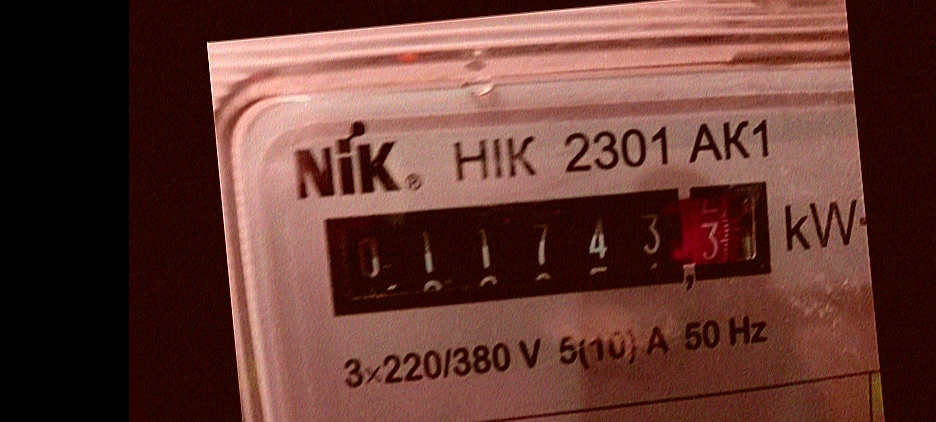0: (350, 232, 383, 282)
1: (469, 223, 495, 273), (414, 228, 436, 278)
3: (633, 209, 665, 258), (694, 218, 722, 264)
4: (579, 213, 611, 263)
7: (525, 219, 554, 269)
screen: (305, 168, 780, 328)
